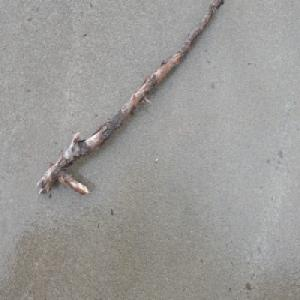Wood: (34, 0, 225, 199)
